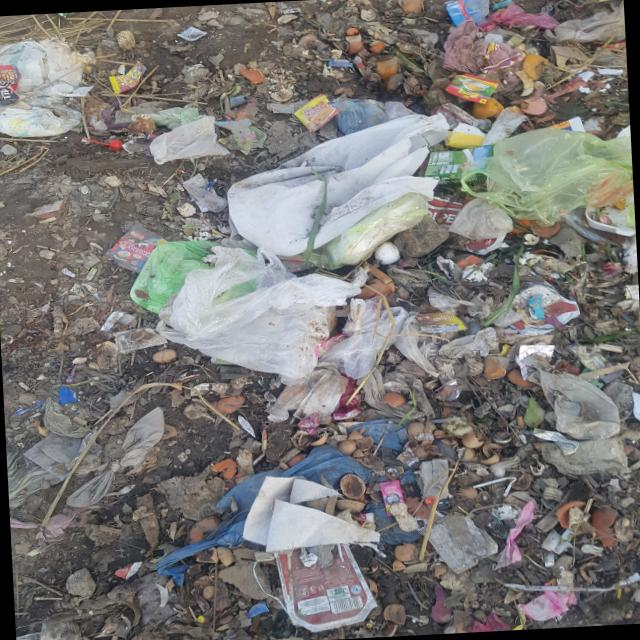electronic: (272, 540, 380, 634), (446, 68, 506, 104), (291, 93, 341, 133), (0, 61, 24, 106)
general: (152, 232, 358, 372), (474, 110, 636, 232)
